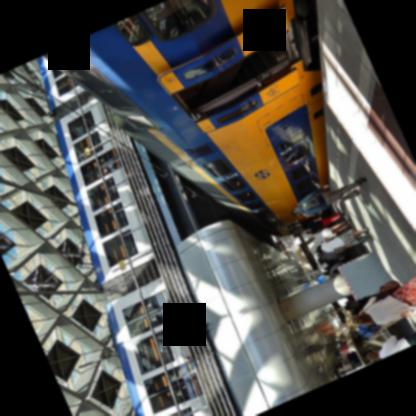backpack: (298, 195, 322, 211), (359, 322, 380, 335)
handbag: (363, 278, 400, 311), (341, 187, 360, 199)
suitcase: (354, 233, 368, 243)
